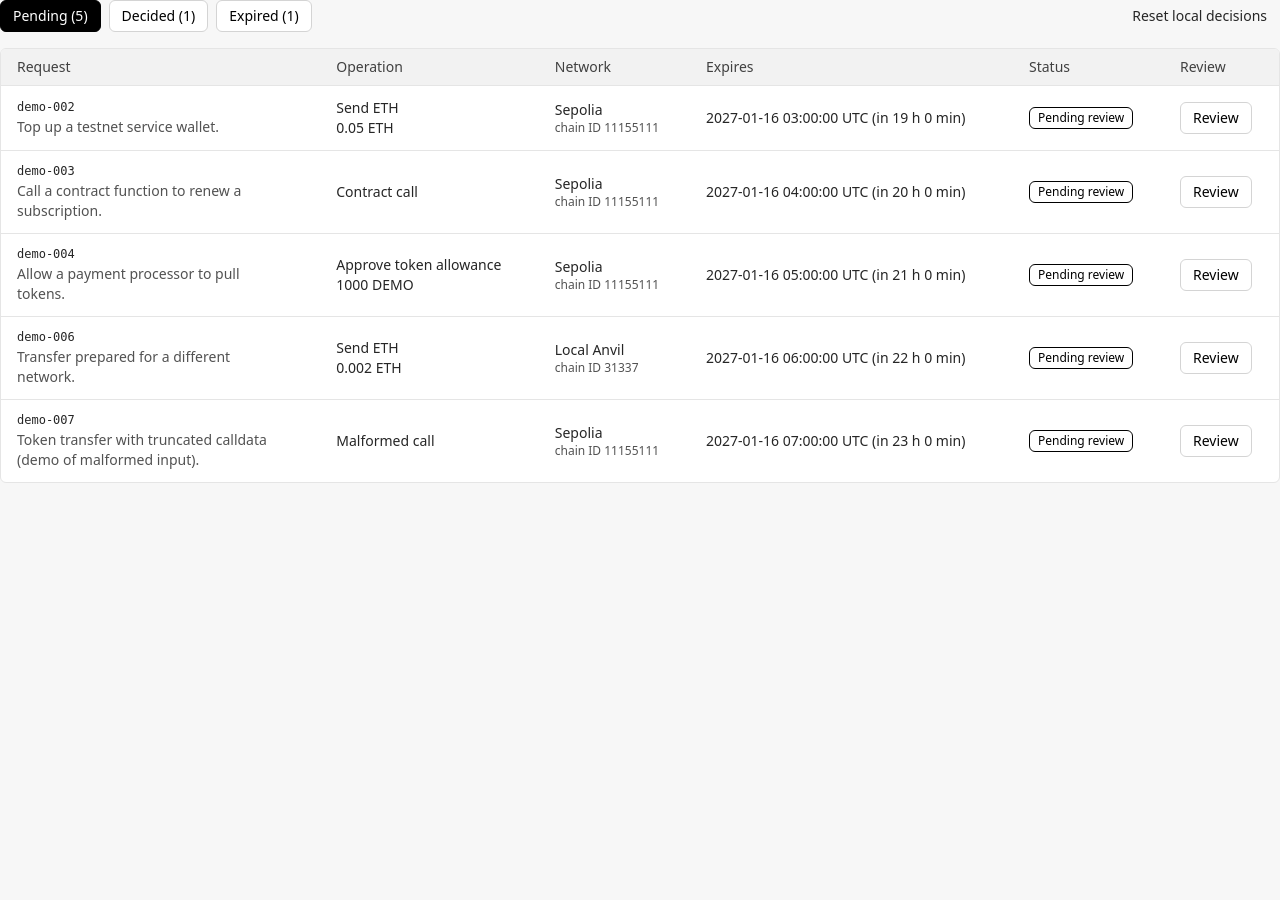
Test: ApprovalWorkspace decisions › shows decided requests as UI-only, not signed, with both controls disabled
Click the button "Decided (1)".
click(158, 16)  # box top-left (109, 0), bottom-right (208, 32)
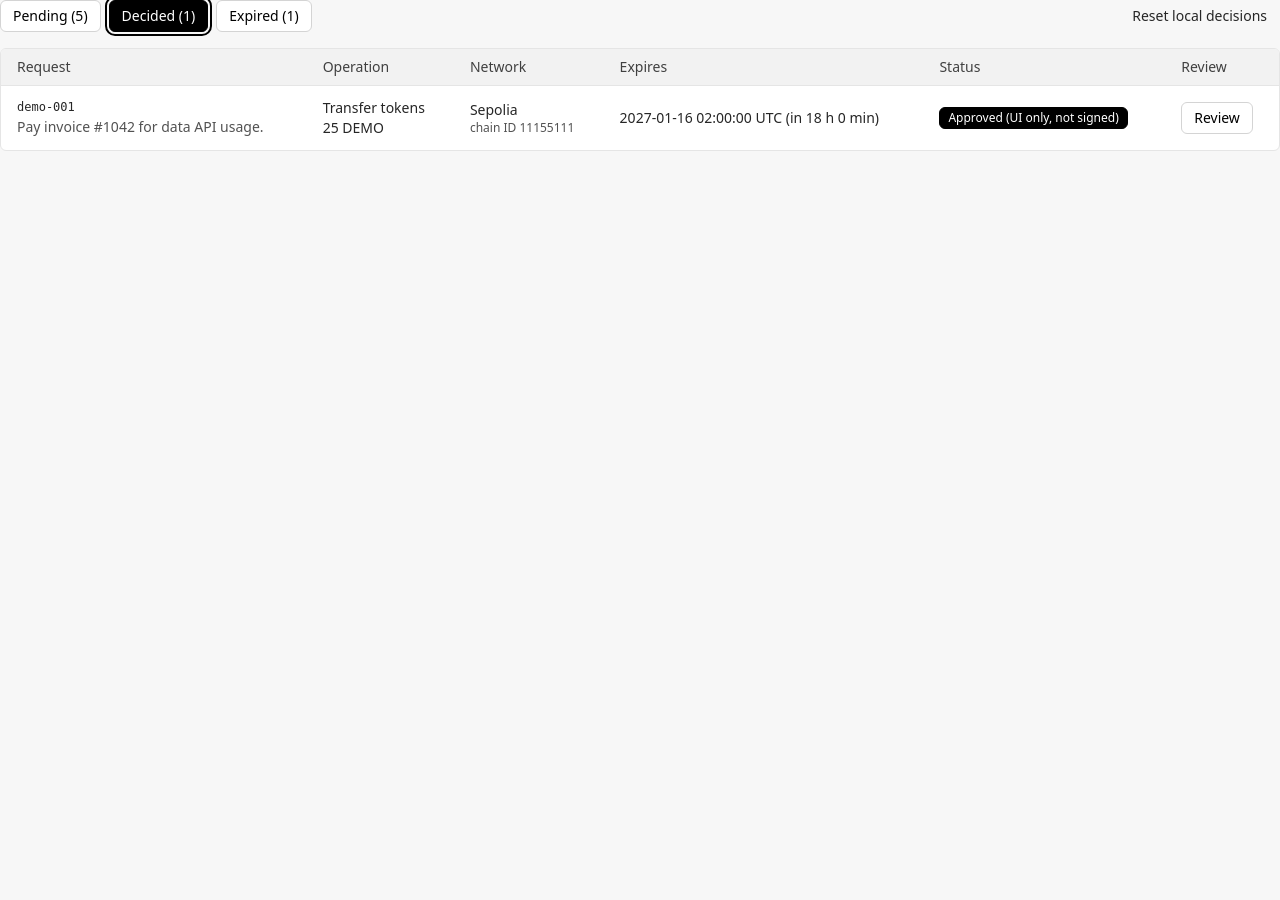
Now the text "Approved (UI only, not signed)" is shown, box top-left (939, 107), bottom-right (1128, 129)
Click the button with aria-label "Review request demo-001".
click(1217, 118)  # box top-left (1181, 102), bottom-right (1253, 134)
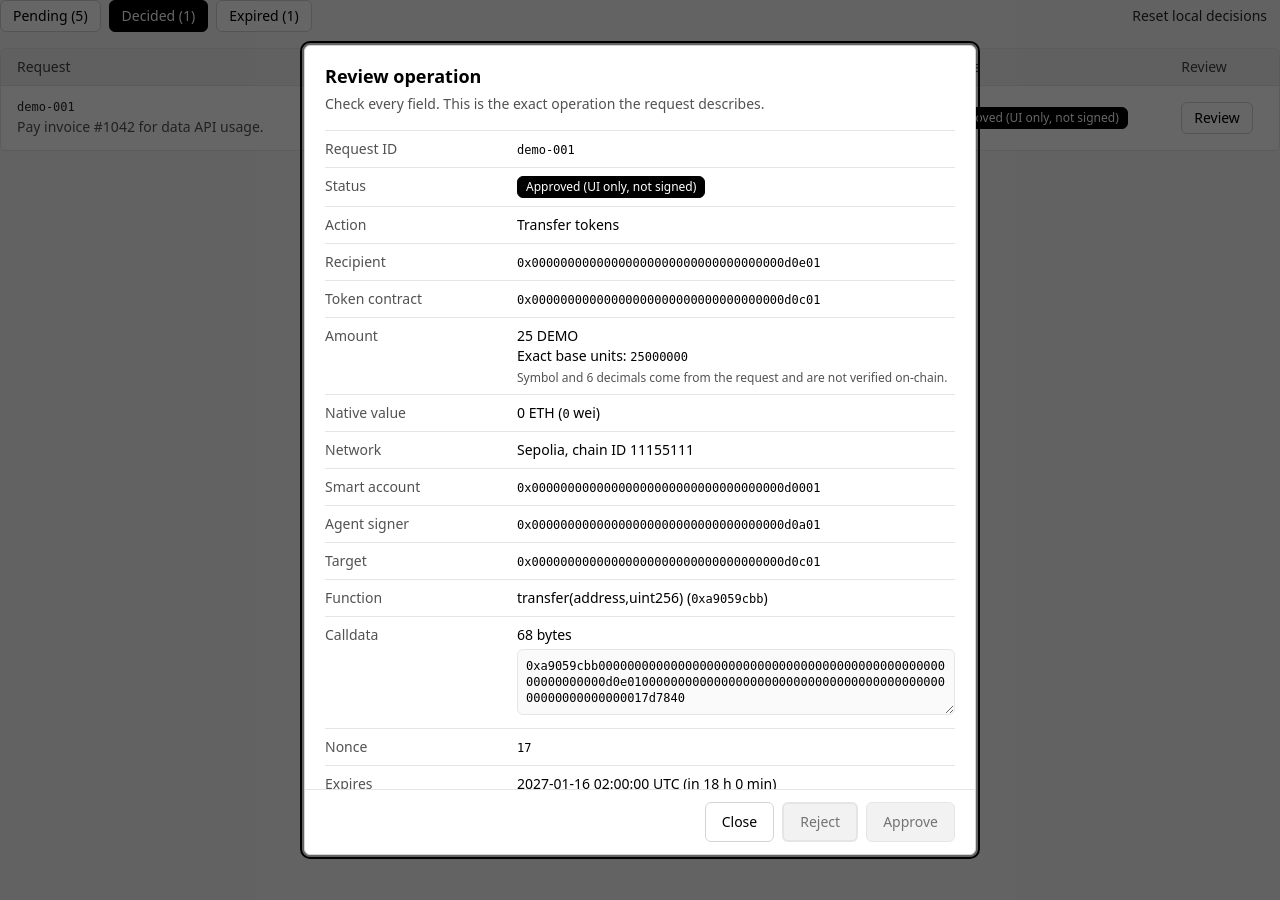
Now the button "Approve" is disabled, box top-left (866, 802), bottom-right (955, 842)
Now the button "Reject" is disabled, box top-left (782, 802), bottom-right (858, 842)
